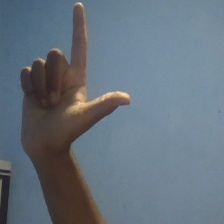L: (15, 1, 135, 160)
